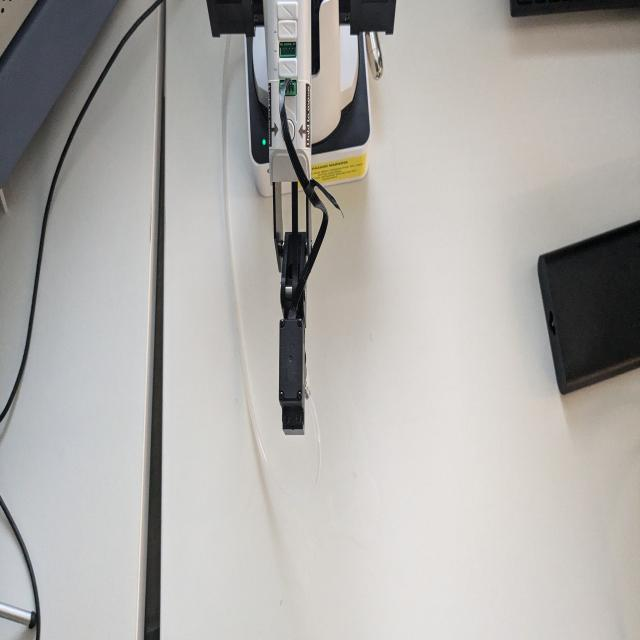Robot-end-effector-HF8z: (275, 309, 318, 438)
